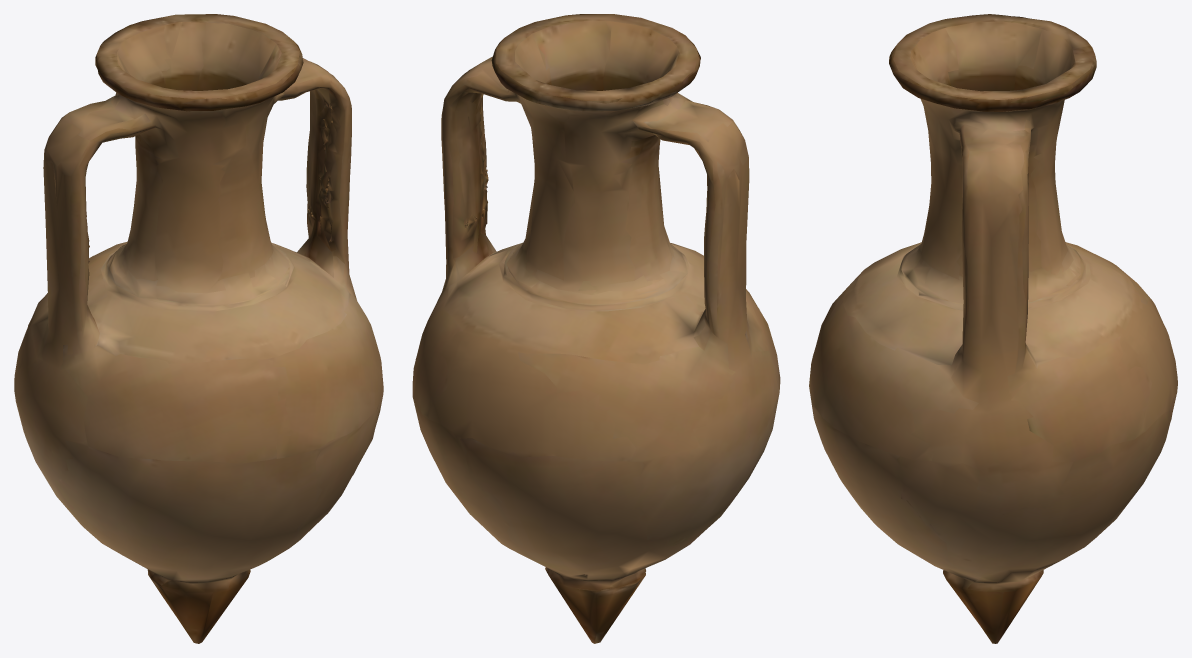
Rendered from baetulo-anfora.glb.
3 views of the same model, side by side, from view 1: azimuth 30°, elevation 25°; view 2: azimuth 150°, elevation 25°; view 3: azimuth 270°, elevation 25° (orthographic).
Visible parts, largest first — view 1: geometry_0; view 2: geometry_0; view 3: geometry_0.
Part boxes in pixels (x1,y1,x2,y2): geometry_0: (14,14,383,643); geometry_0: (412,14,780,643); geometry_0: (809,14,1177,643).
Size of the model in its own units: 0.5686 by 1 by 0.5705.
Materials: 1 (1 with a texture image).
